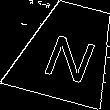N_N: (35, 21, 100, 82)
